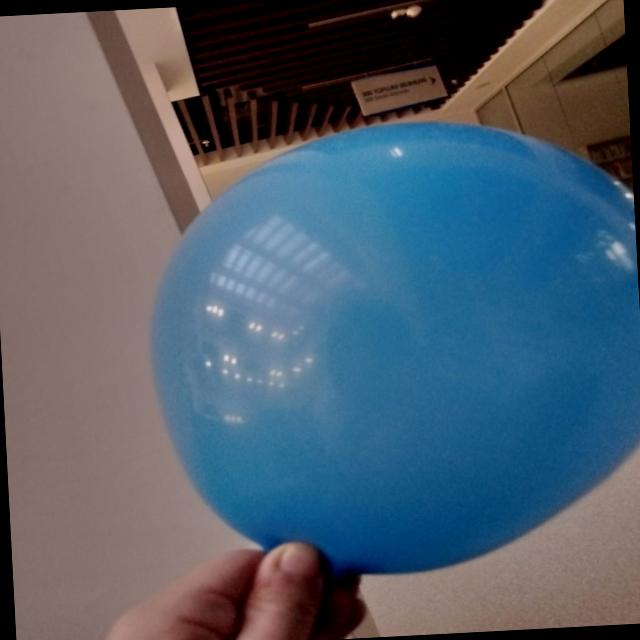balloon: (150, 123, 640, 582)
